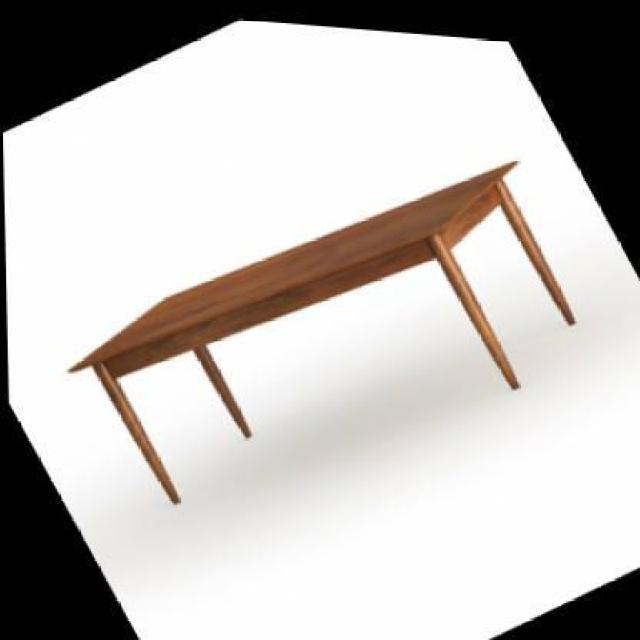tables: (66, 157, 577, 505)
